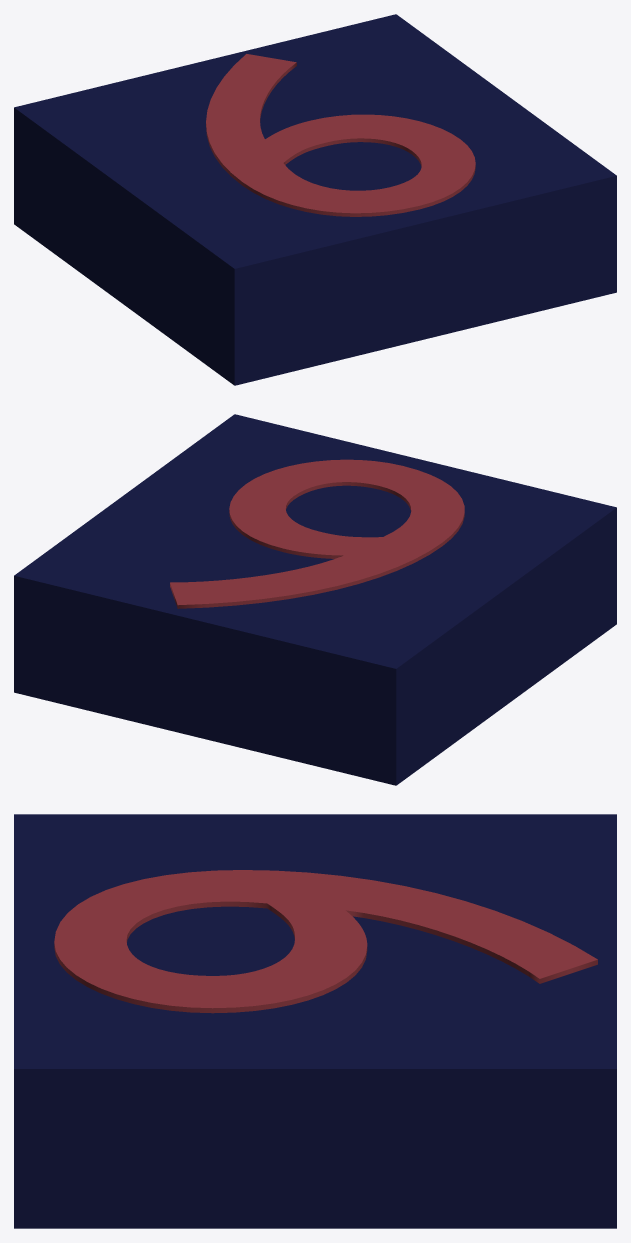
The model's file is six-pad.fbx.
3 views of the same model, one above another, from view 1: azimuth 30°, elevation 25°; view 2: azimuth 150°, elevation 25°; view 3: azimuth 270°, elevation 25° (orthographic). The views are drawn at different scales.
Parts seen in each view (by area): view 1: Cube, Text; view 2: Cube, Text; view 3: Cube, Text.
Boxes of the visible parts, bbox=[...] form: Cube: bbox=[14, 14, 616, 385]; Text: bbox=[206, 54, 475, 216]; Cube: bbox=[14, 414, 616, 785]; Text: bbox=[170, 459, 464, 608]; Cube: bbox=[14, 814, 616, 1228]; Text: bbox=[54, 870, 597, 1013].
Size of the model in its own units: 200 by 60.26 by 200.
